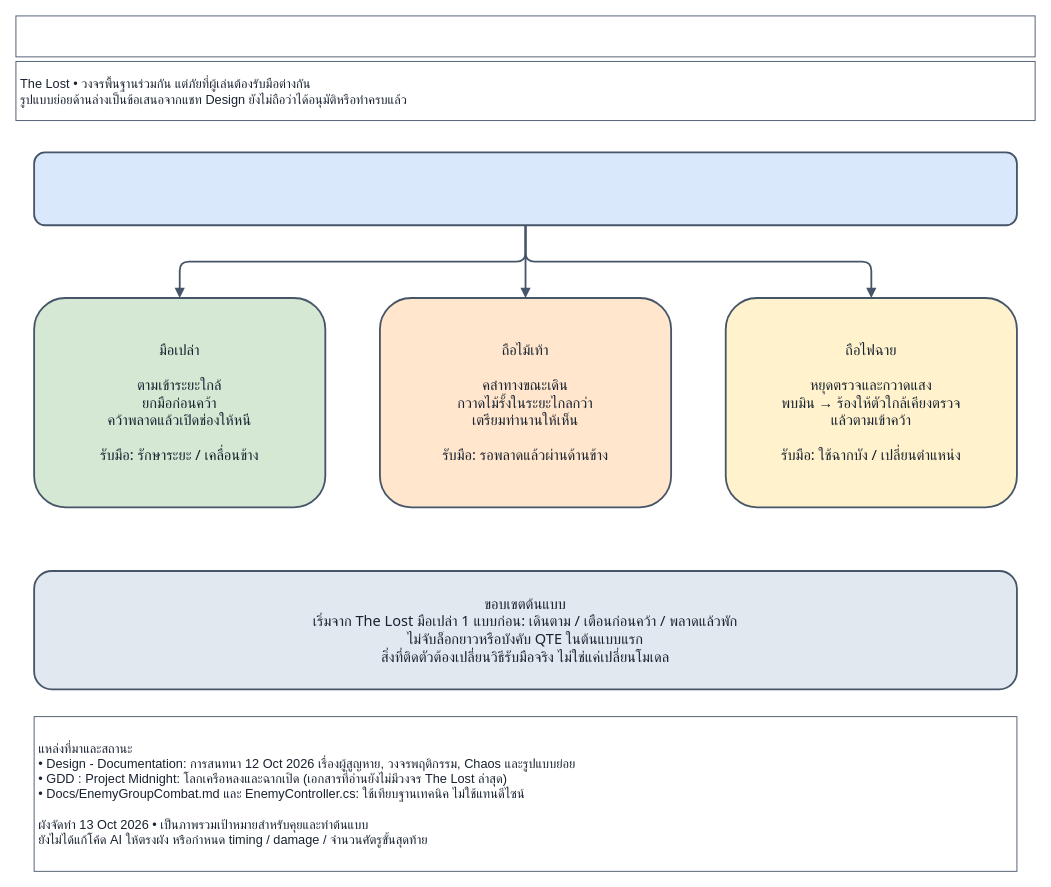
This 1051x887 diagram has some shape labels left out. The centre of each missing label's shape, as x and y in pixels:
"03 — Variants & Sources" goes at (x=525, y=36).
"พื้นฐานร่วม: เดินวน → รับรู้ → ค้นหา → ตาม → พยายามรั้งมิน → พัก / กลับวน" goes at (x=525, y=188).
